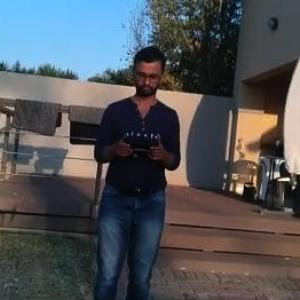follow: (85, 42, 188, 299)
